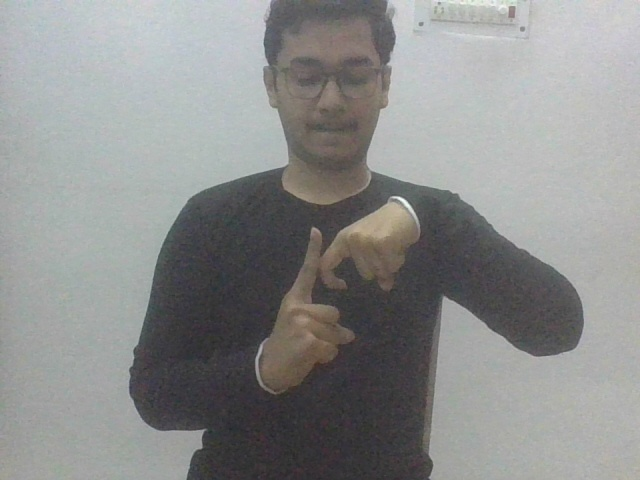K: (256, 194, 424, 397)
